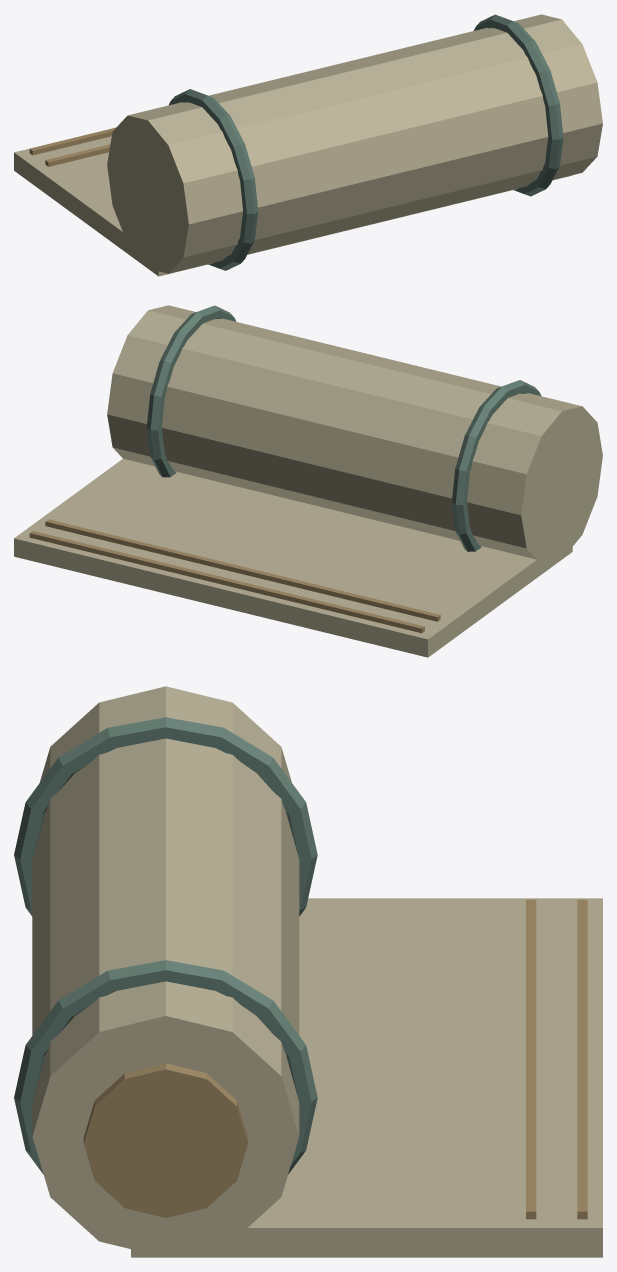
Rendered from SWP_CanvasRepairRoll.fbx.
3 renders of one model, top to bottom at view 1: azimuth 30°, elevation 25°; view 2: azimuth 150°, elevation 25°; view 3: azimuth 270°, elevation 25°, orthographic. The views are drawn at different scales.
Visible parts, largest first — view 1: SWP_CanvasRepairRoll; view 2: SWP_CanvasRepairRoll; view 3: SWP_CanvasRepairRoll.
Boxes of the visible parts, x1,y1,x2,y2 form: SWP_CanvasRepairRoll: (14, 14, 602, 276); SWP_CanvasRepairRoll: (14, 305, 602, 657); SWP_CanvasRepairRoll: (14, 686, 602, 1257).
Bounding box in the file's own units: 0.388 × 0.148 × 0.287.
